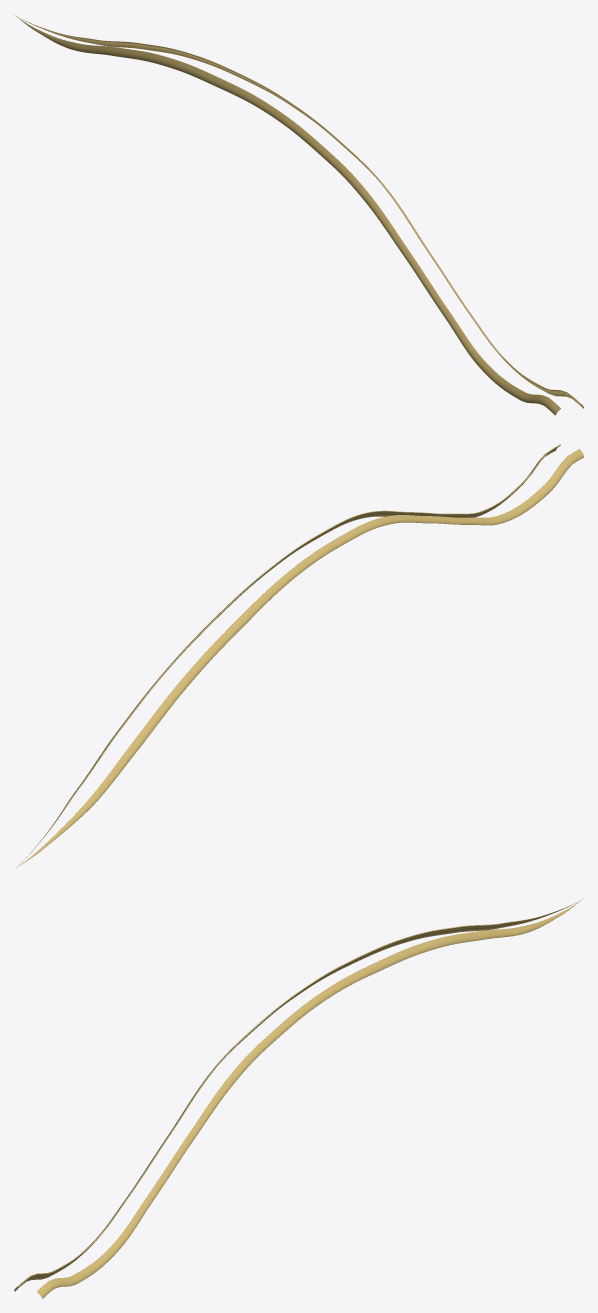
3 views of the same model, one above another, from view 1: azimuth 30°, elevation 25°; view 2: azimuth 150°, elevation 25°; view 3: azimuth 330°, elevation 25° (orthographic).
Visible parts, largest first — view 1: 脊髓小脑后束; view 2: 脊髓小脑后束; view 3: 脊髓小脑后束.
Boxes of the visible parts, x1,y1,x2,y2 form: 脊髓小脑后束: [15, 15, 583, 415]; 脊髓小脑后束: [14, 444, 583, 869]; 脊髓小脑后束: [14, 898, 583, 1298].
Bounding box in the file's own units: 0.0216 × 0.0788 × 0.7223.
